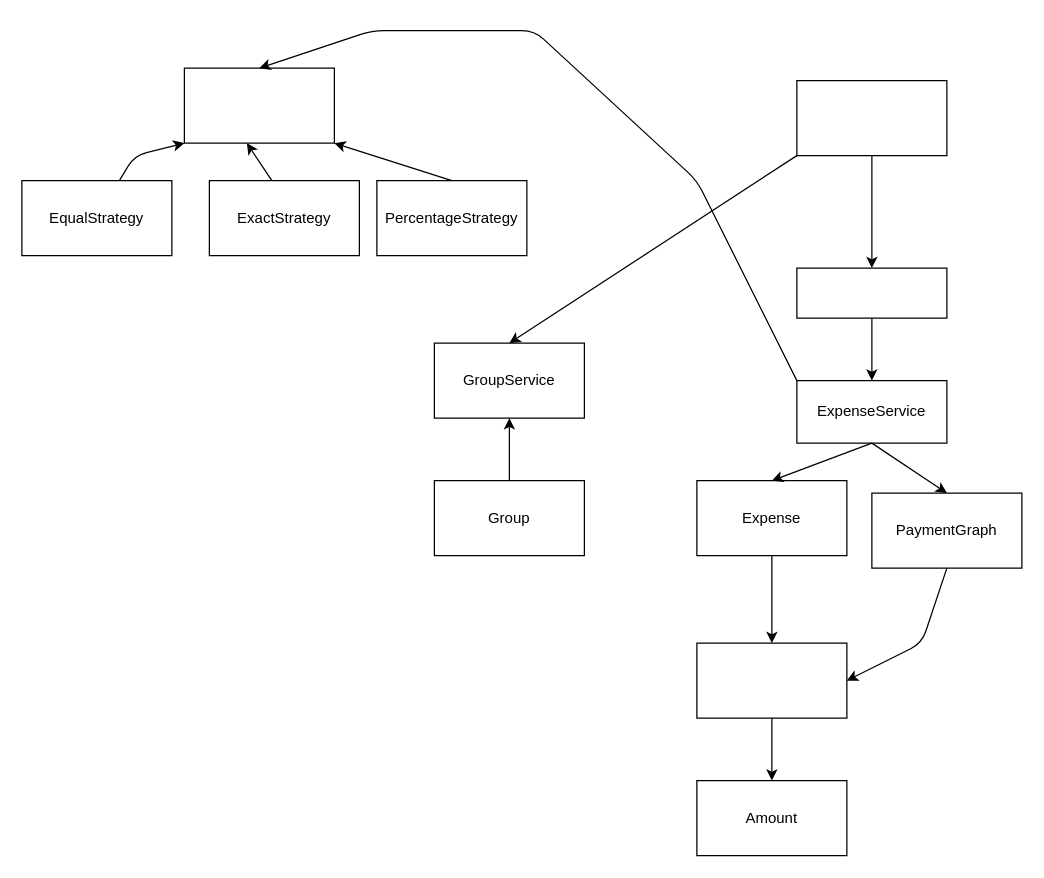
The diagram is 1044 pixels wide and 878 high, and some of its shapes have lost their labels. Each missing label, with the box of its shape:
BalanceMap: (696, 642, 847, 718)
ExpenseBuilder: (796, 267, 947, 318)
Facade Splitwise: (796, 79, 947, 156)
Interface SplitStrategy: (183, 67, 334, 143)
